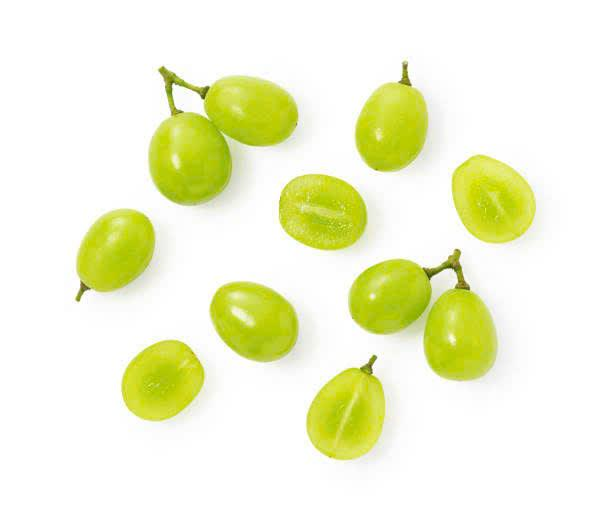grape: (301, 357, 393, 476), (71, 202, 158, 319), (449, 151, 545, 249), (143, 110, 237, 205), (353, 59, 432, 168), (200, 68, 301, 151), (208, 276, 300, 366), (120, 331, 204, 427), (274, 169, 364, 253), (422, 287, 499, 380), (351, 257, 431, 331)
